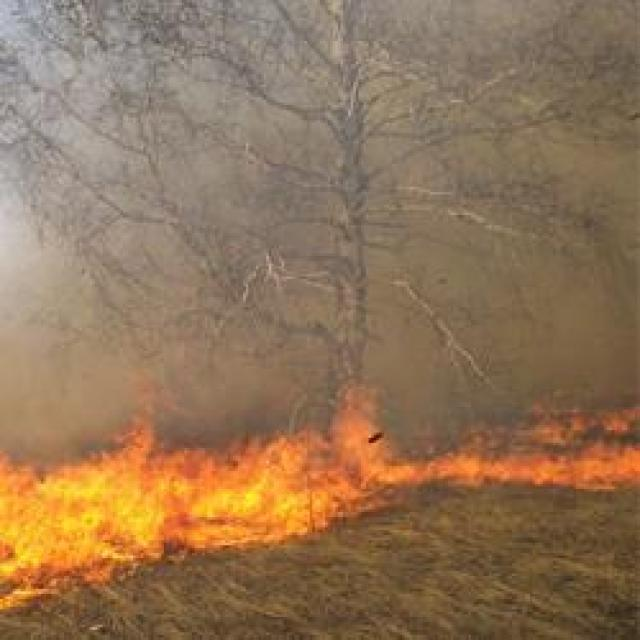Fire: (1, 440, 376, 544), (413, 416, 640, 489)
